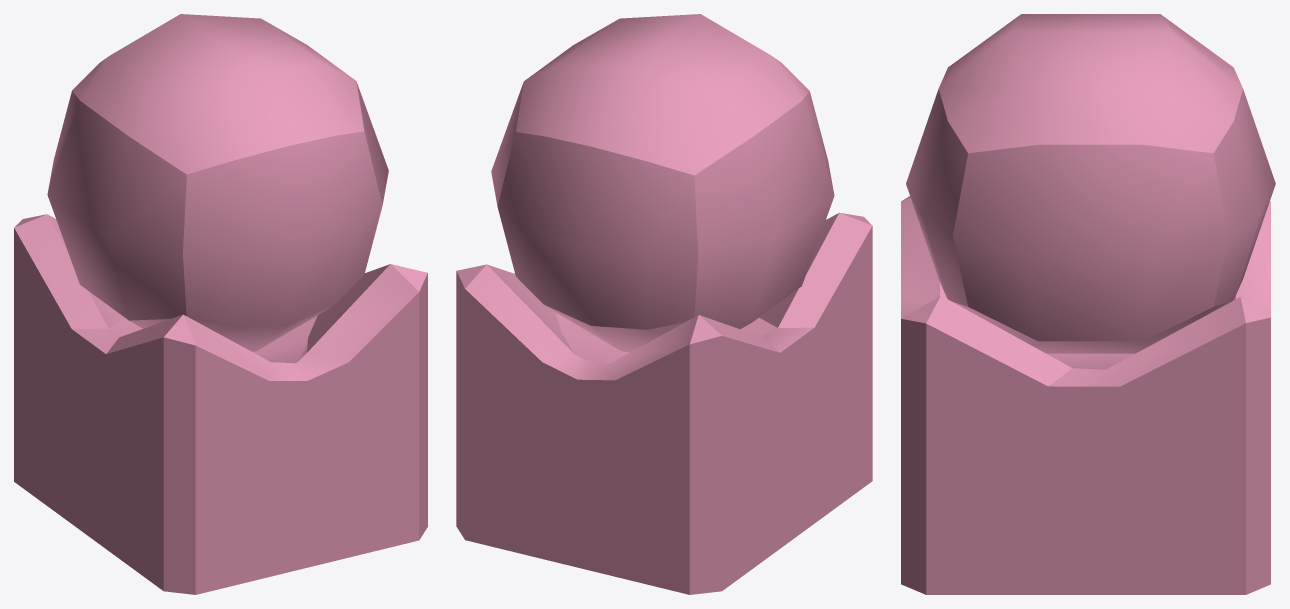
The model's file is BrickWithBall_alpha.FBX.
The picture shows the model from 3 angles, left to right: view 1: azimuth 30°, elevation 25°; view 2: azimuth 150°, elevation 25°; view 3: azimuth 270°, elevation 25°; orthographic projection. The views are drawn at different scales.
Parts seen in each view (by area): view 1: Top; view 2: Top; view 3: Top.
Part boxes in pixels (x1,y1,x2,y2): Top: (14,14,427,594); Top: (456,14,872,594); Top: (901,14,1275,594).
Bounding box in the file's own units: 21.37 × 33.54 × 23.1.
